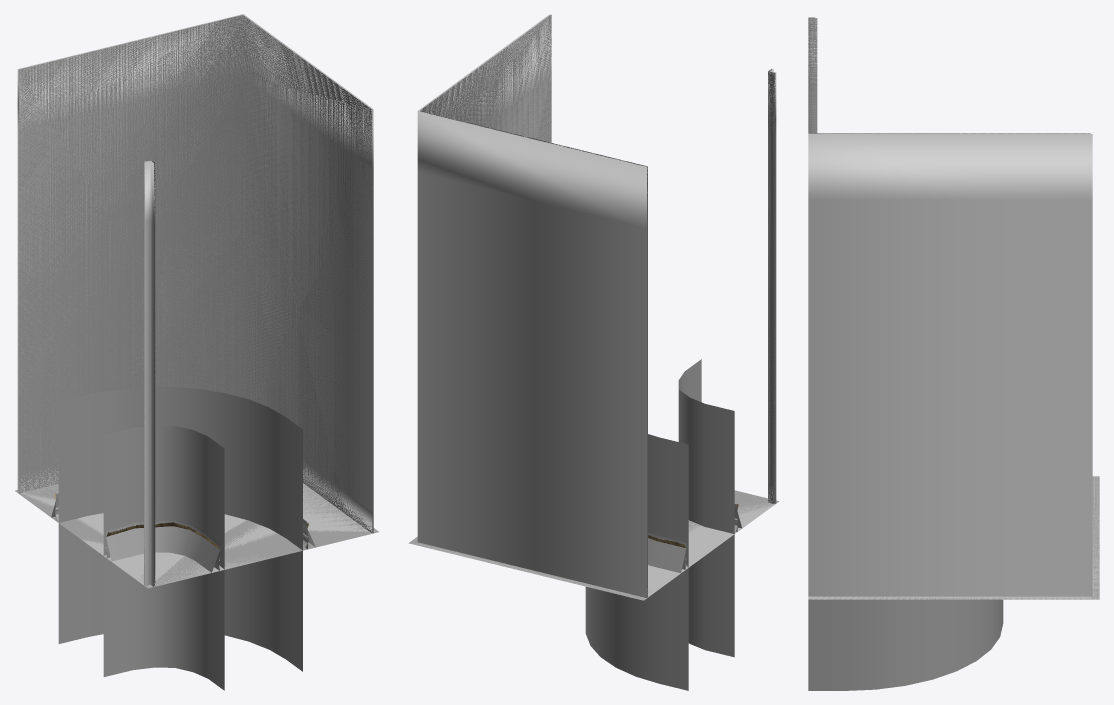
The picture shows the model from 3 angles, left to right: view 1: azimuth 30°, elevation 25°; view 2: azimuth 150°, elevation 25°; view 3: azimuth 270°, elevation 25°; orthographic projection. The views are drawn at different scales.
Visible parts, largest first — view 1: col_o, mdl_LOD0, col_w, mdl2_LOD0; view 2: mdl_LOD0, col_w, mdl2_LOD0, col_o; view 3: mdl_LOD0, mdl2_LOD0, col_w, col_o.
Part boxes in pixels (x1,y1,x2,y2): col_o: (15,15,378,588); mdl_LOD0: (16,76,378,587); col_w: (58,386,302,690); mdl2_LOD0: (17,14,373,549); mdl_LOD0: (410,77,778,599); col_w: (585,359,734,690); mdl2_LOD0: (417,14,776,547); col_o: (409,14,779,600); mdl_LOD0: (808,84,1099,599); mdl2_LOD0: (808,17,1092,200); col_w: (808,599,1003,690); col_o: (808,18,1099,599).
Size of what is drawn, in the model's own units: 1600 by 3600 by 1600.
